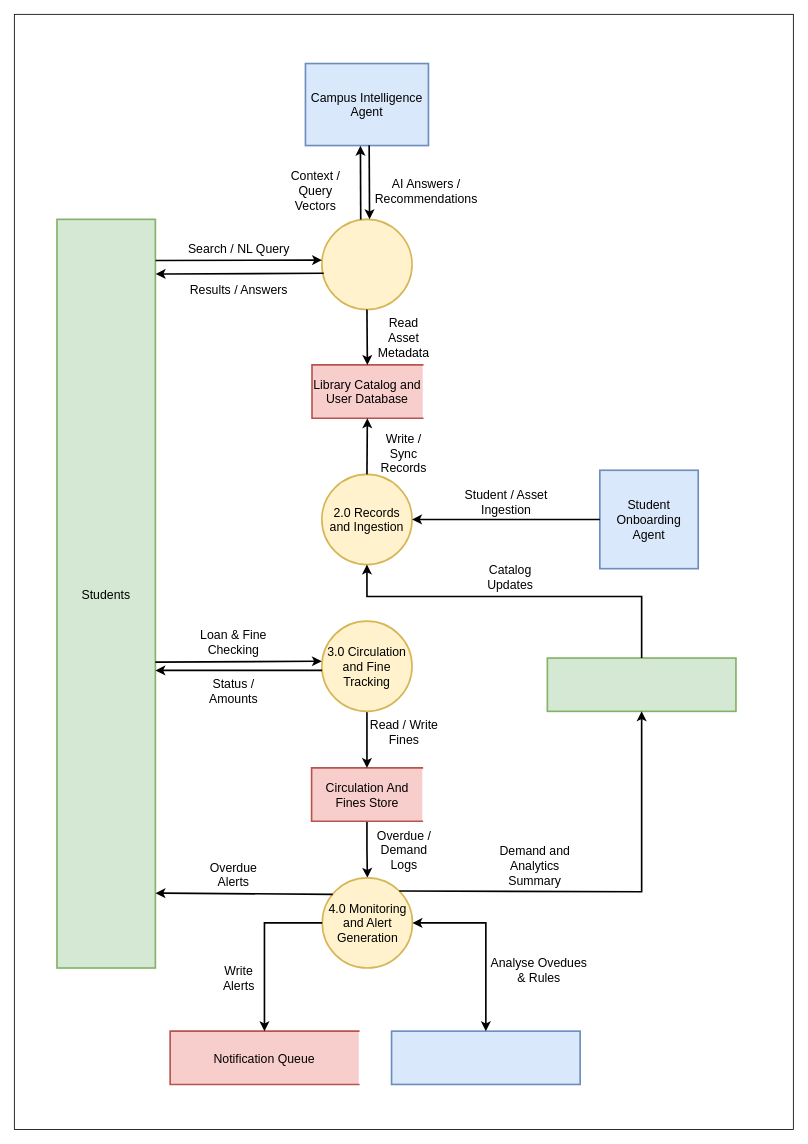
Image size: 808x1144. Some labels were removed from this diagram. Here are the shapes that lost their labels. From the top down, the centre of each, then its label:
the point at 366,264: 1.0 Search and Intelligent Assistance
the point at 641,684: Librarian
the point at 485,1057: Monitoring and Notification Agent
